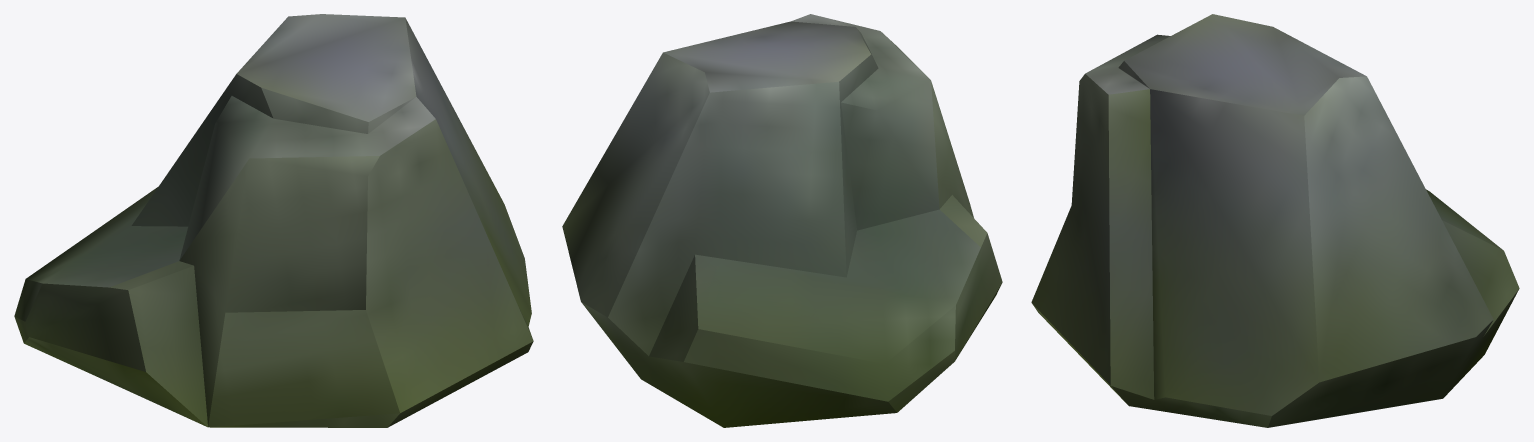
Rendered from rock-1.glb.
3 renders of one model, left to right at view 1: azimuth 30°, elevation 25°; view 2: azimuth 150°, elevation 25°; view 3: azimuth 270°, elevation 25°, orthographic. The views are drawn at different scales.
Parts seen in each view (by area): view 1: Rock_Medium_1; view 2: Rock_Medium_1; view 3: Rock_Medium_1.
Boxes of the visible parts, bbox=[...] form: Rock_Medium_1: bbox=[14, 14, 533, 427]; Rock_Medium_1: bbox=[562, 14, 1002, 427]; Rock_Medium_1: bbox=[1031, 14, 1519, 427].
Size of the model in its own units: 0.7136 by 0.4881 by 0.6614.
Materials: 1 (1 with a texture image).
